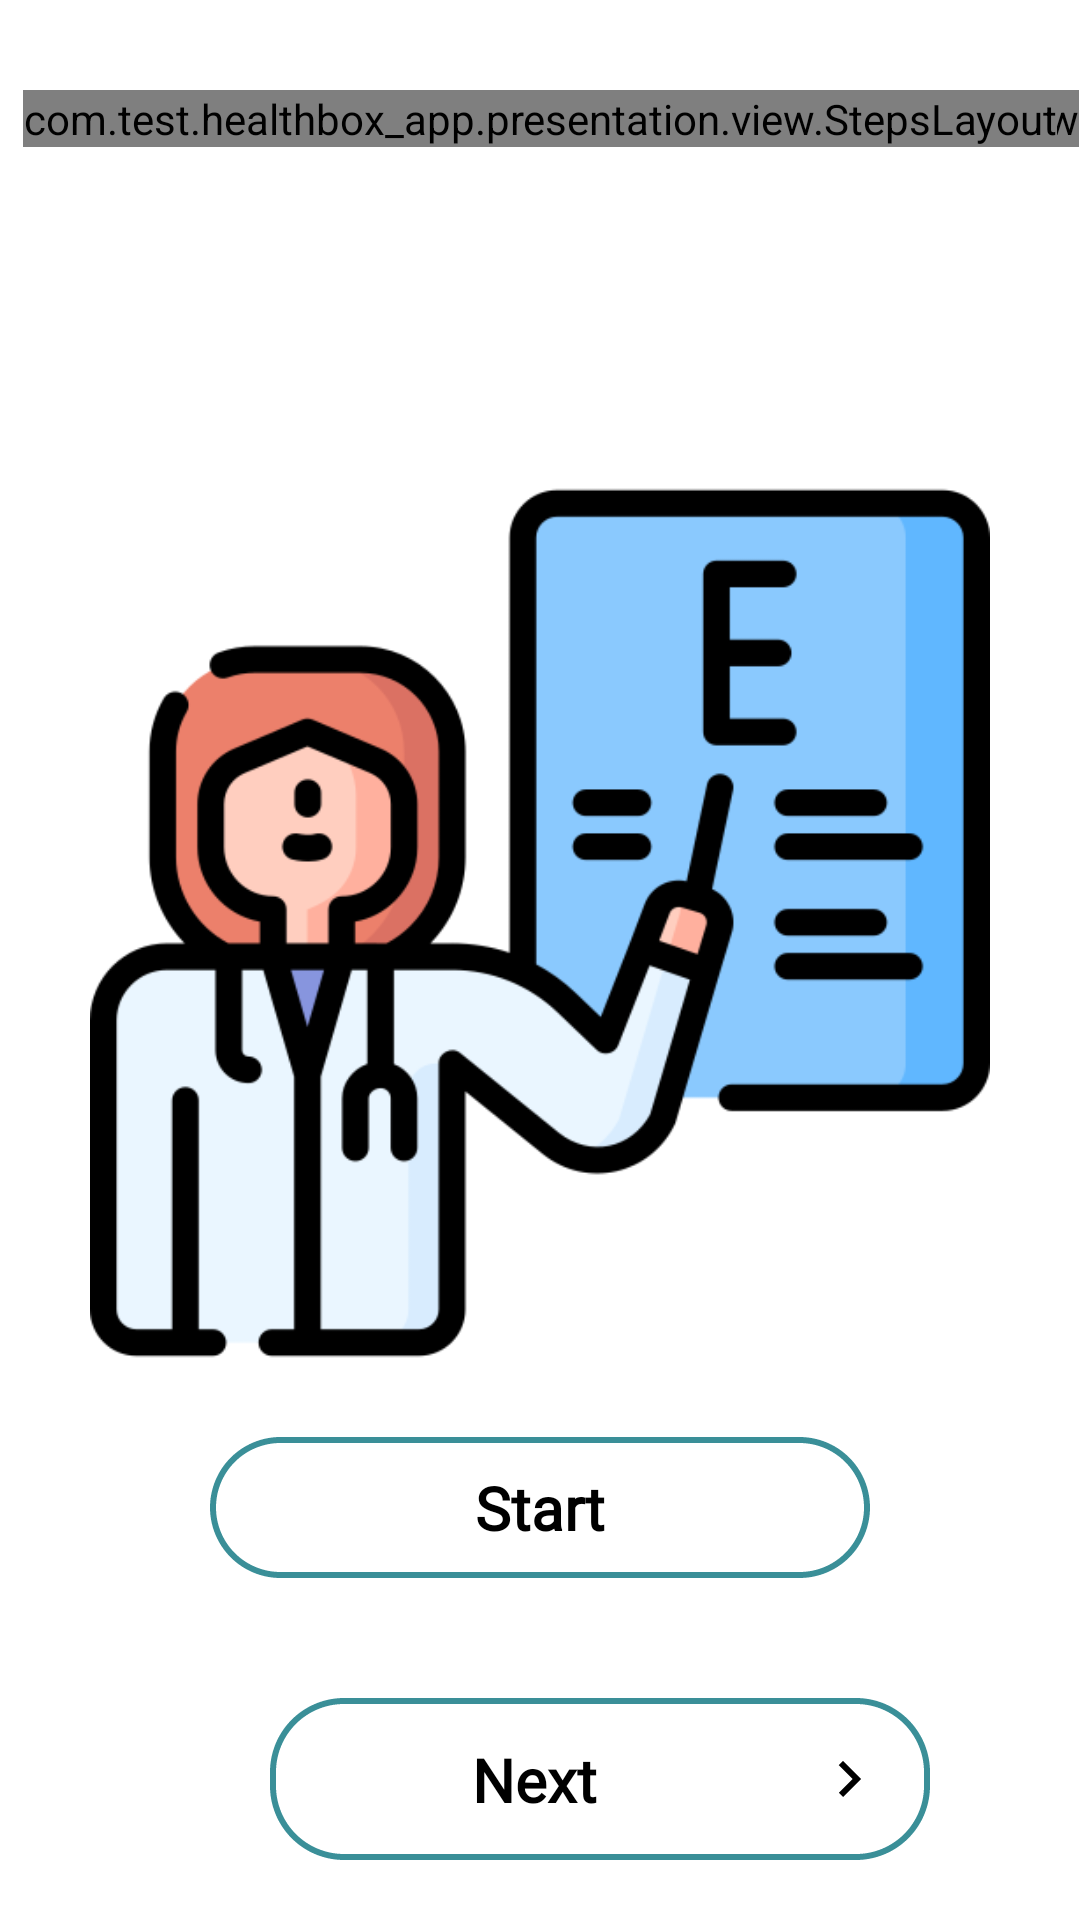

Icon click points for this 1080 x 1920 phone screenshot, format (x,y):
arrow: (850,1779)
